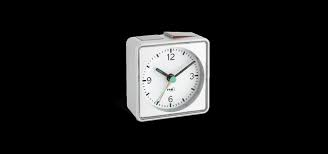alarm_clock: (123, 31, 209, 121)
